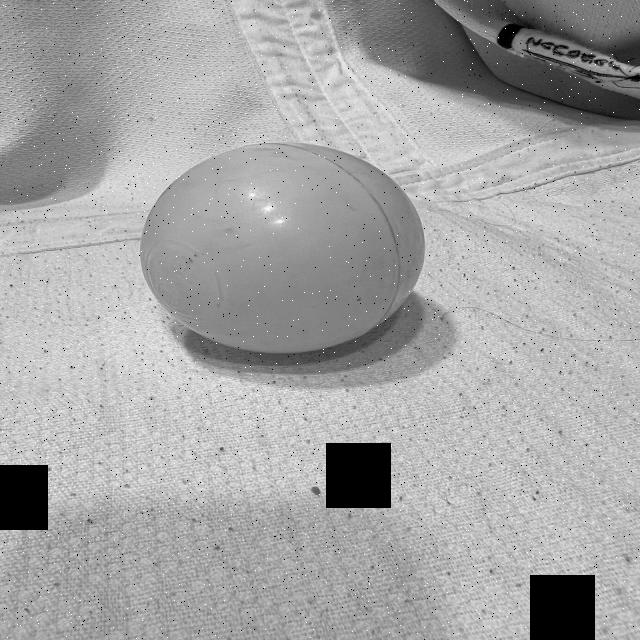ball: (137, 139, 427, 360)
